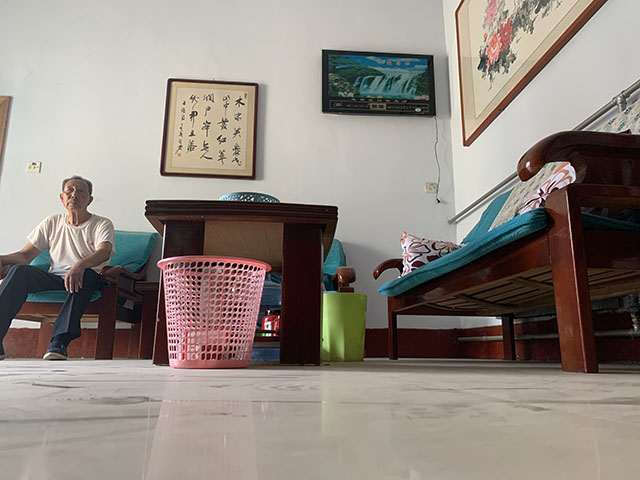sofa: (370, 95, 640, 374), (1, 229, 159, 359), (156, 252, 273, 368)
table: (144, 190, 339, 369)
trashcan: (320, 289, 368, 363)
